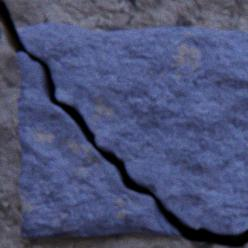broken_brick: (21, 24, 247, 234), (18, 54, 177, 237)
crack: (0, 0, 247, 247)
